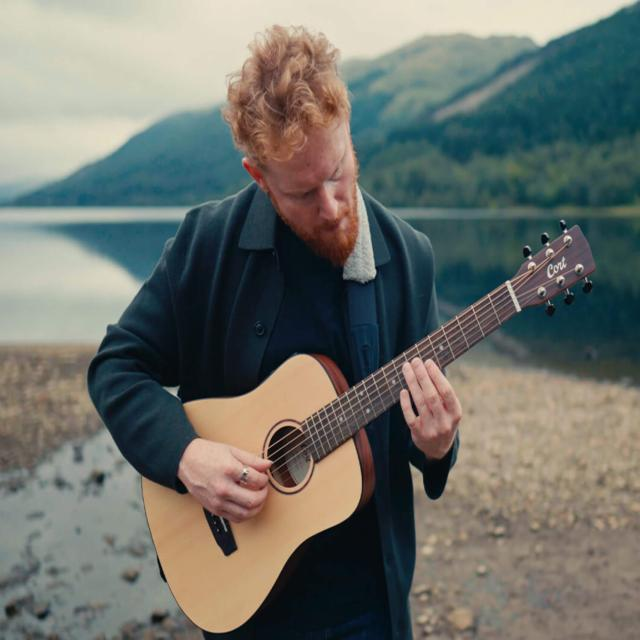guitar: (143, 214, 598, 636)
